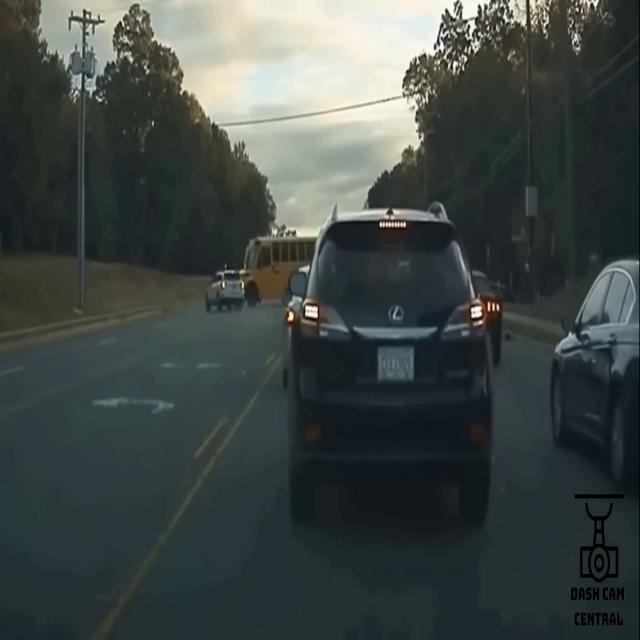accident: (199, 234, 301, 314)
